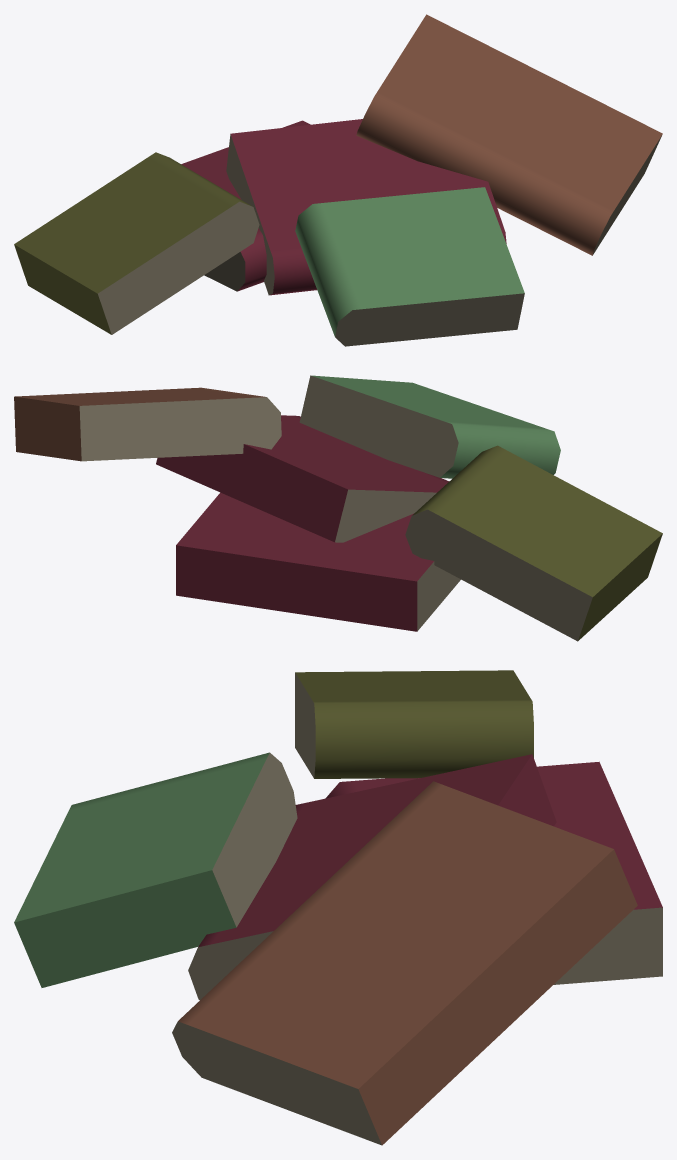
Rendered from book_pile_02.gltf.
3 views of the same model, one above another, from view 1: azimuth 30°, elevation 25°; view 2: azimuth 150°, elevation 25°; view 3: azimuth 270°, elevation 25° (orthographic). The views are drawn at different scales.
Parts seen in each view (by area): view 1: Cube.007, Cube.006, Cube.005, Cube.008, Cube.009; view 2: Cube.005, Cube.009, Cube.008, Cube.007, Cube.006; view 3: Cube.007, Cube.006, Cube.005, Cube.008, Cube.009.
Part boxes in pixels (box(x1,y1,x2,y2)): Cube.007: box(356, 14, 662, 255); Cube.006: box(295, 187, 524, 346); Cube.005: box(14, 152, 259, 334); Cube.008: box(226, 119, 506, 295); Cube.009: box(181, 120, 310, 291); Cube.005: box(405, 445, 662, 641); Cube.009: box(176, 492, 460, 631); Cube.008: box(156, 415, 448, 542); Cube.007: box(14, 387, 281, 461); Cube.006: box(299, 375, 560, 478); Cube.007: box(172, 781, 637, 1145); Cube.006: box(14, 752, 297, 987); Cube.005: box(295, 670, 533, 778); Cube.008: box(188, 754, 556, 1000); Cube.009: box(325, 761, 662, 984).
Bounding box in the file's own units: 1.36 × 0.3191 × 0.8777.
